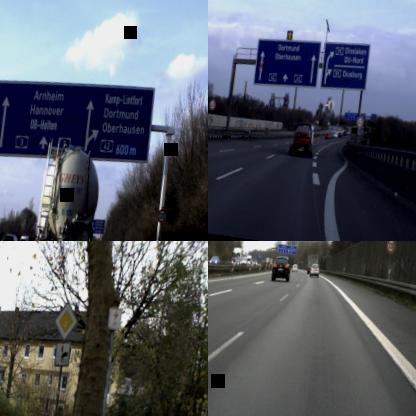priority road: (50, 300, 80, 344)
speed limit 120: (156, 207, 166, 223), (385, 241, 396, 253)
speed limit 60: (355, 116, 364, 128), (208, 97, 216, 110)
